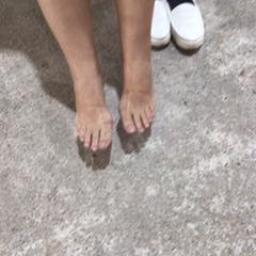Dorsal View -Both Feet-: (54, 37, 166, 162)
